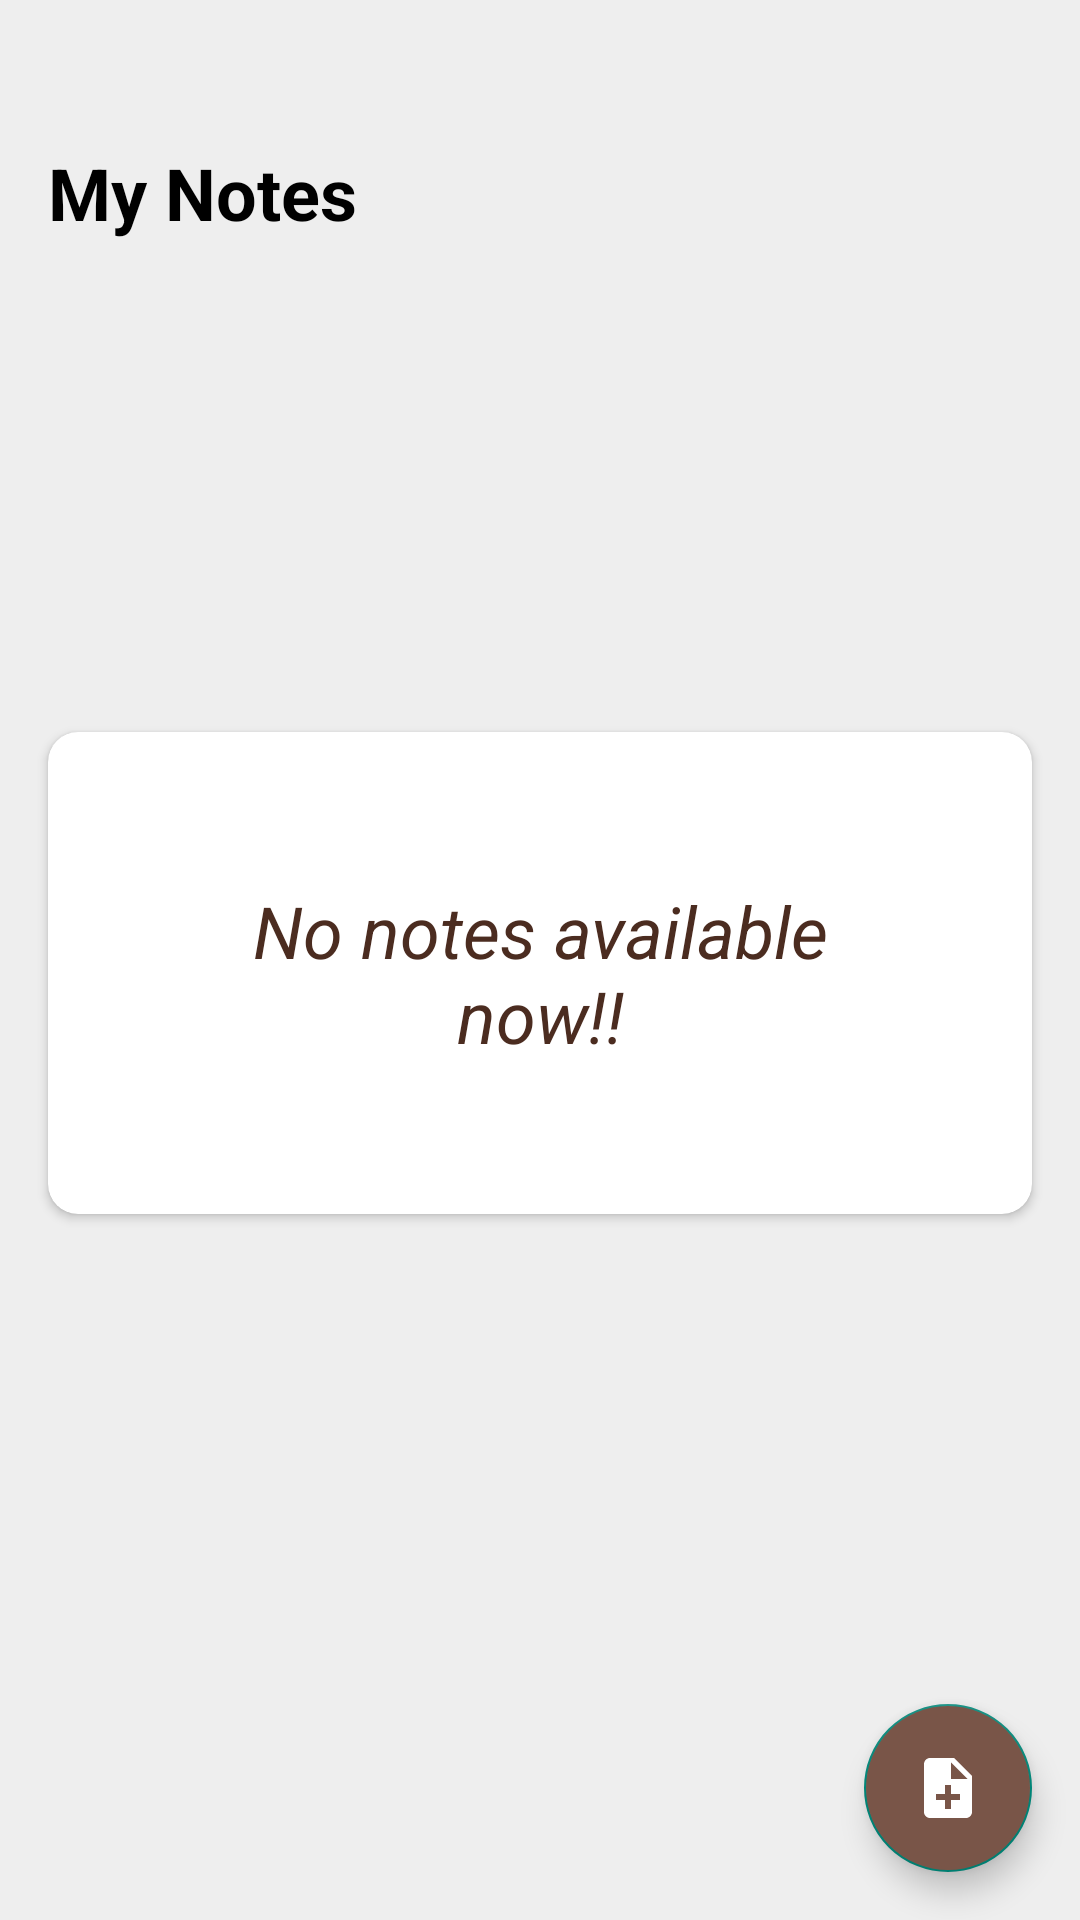

Icons on this 1080*1920 Android screen, each with the point to tap as point (x, y):
note add: point (948, 1788)
